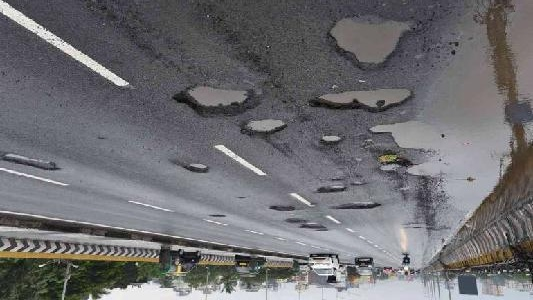pothole: (325, 15, 420, 72), (307, 87, 415, 115), (174, 85, 260, 119), (367, 121, 433, 152), (1, 152, 61, 174), (240, 118, 287, 139), (284, 215, 330, 234), (331, 200, 380, 211), (182, 161, 210, 175), (268, 202, 296, 213), (319, 184, 348, 194), (319, 134, 344, 145)
